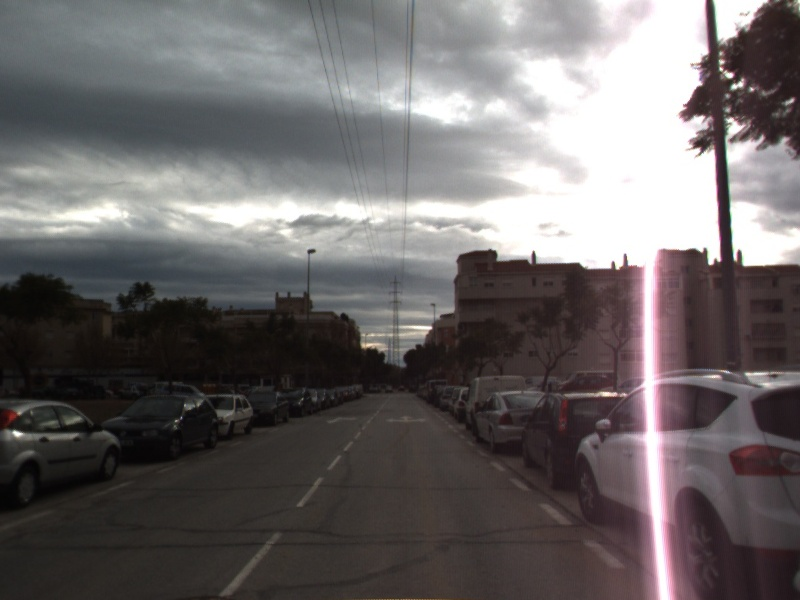STRAIGHT_LEFT_RIGHT: (383, 413, 429, 425)
